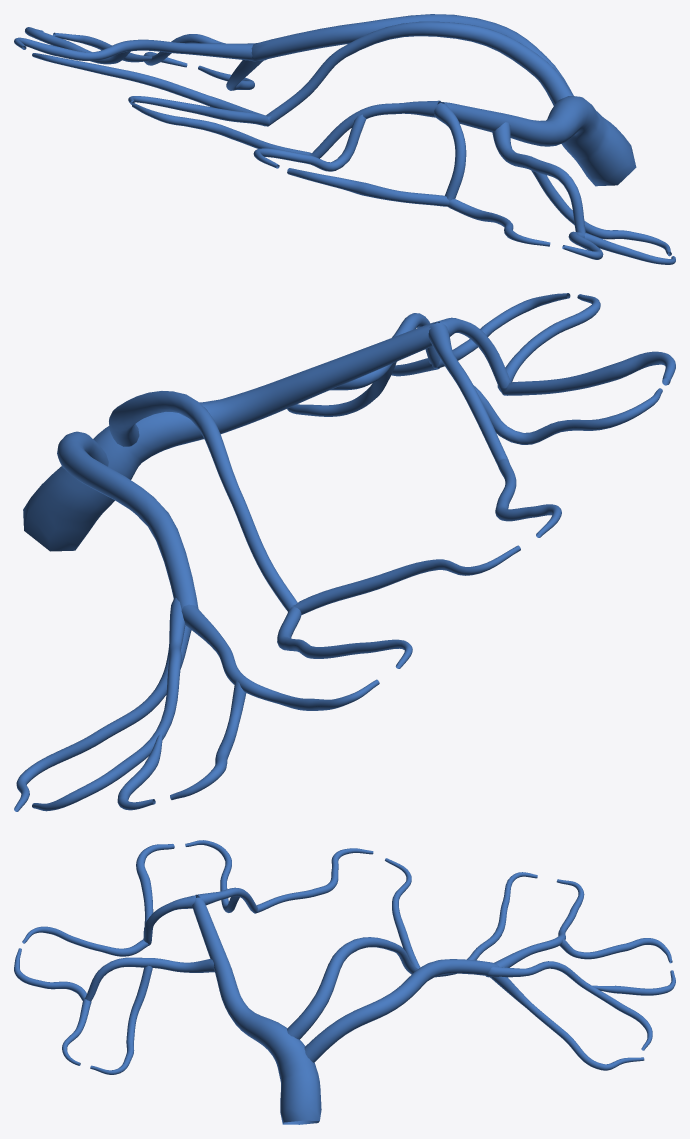
3 views of the same model, one above another, from view 1: azimuth 30°, elevation 25°; view 2: azimuth 150°, elevation 25°; view 3: azimuth 270°, elevation 25° (orthographic). The views are drawn at different scales.
Visible parts, largest first — view 1: 右肾内静脉; view 2: 右肾内静脉; view 3: 右肾内静脉.
Part boxes in pixels (<box>): 右肾内静脉: <box>14,14,675,264</box>; 右肾内静脉: <box>14,293,675,811</box>; 右肾内静脉: <box>14,840,675,1124</box>.
Bounding box in the file's own units: 0.0708 × 0.0285 × 0.1142.
